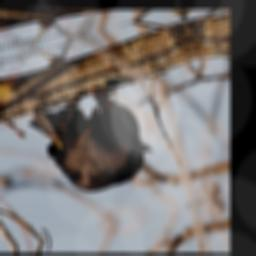Crow: (21, 76, 163, 205)
